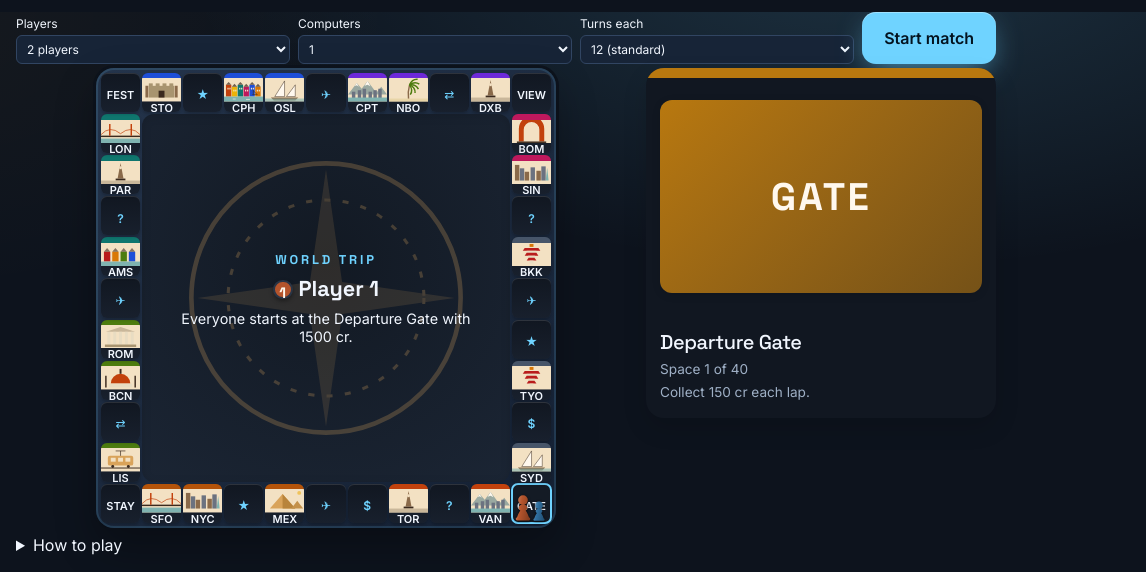
World Trip UI › shows a stop card with the country when a space is selected
The image size is (1146, 572).
Click the button with aria-label "Space 4, Toronto": point(408, 503) [389,484,428,523]
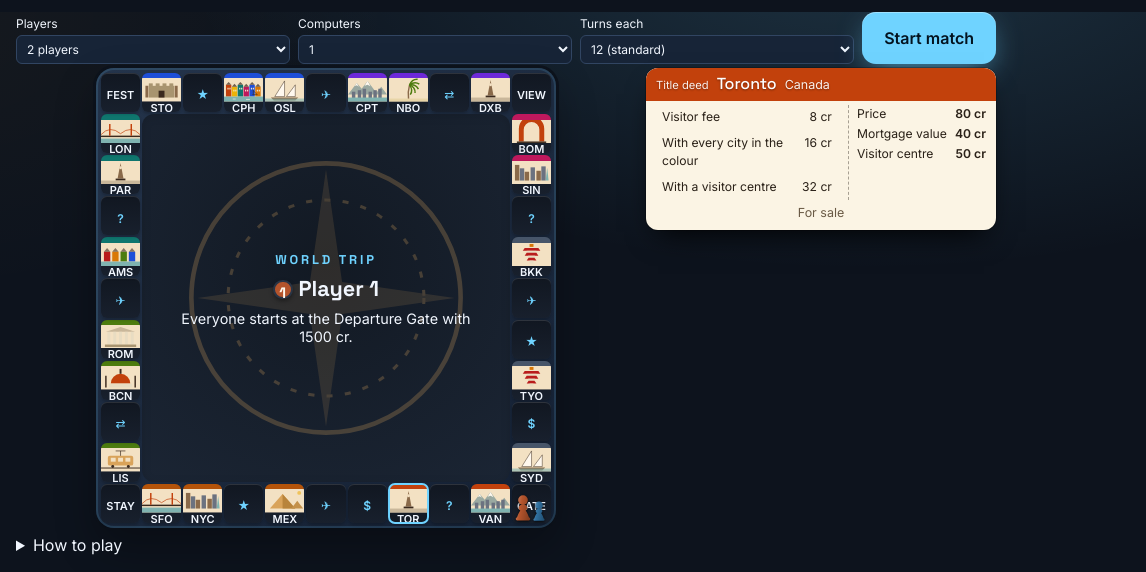
Check: the element named "Selected stop" shows "Canada", box [785,77,830,92]
